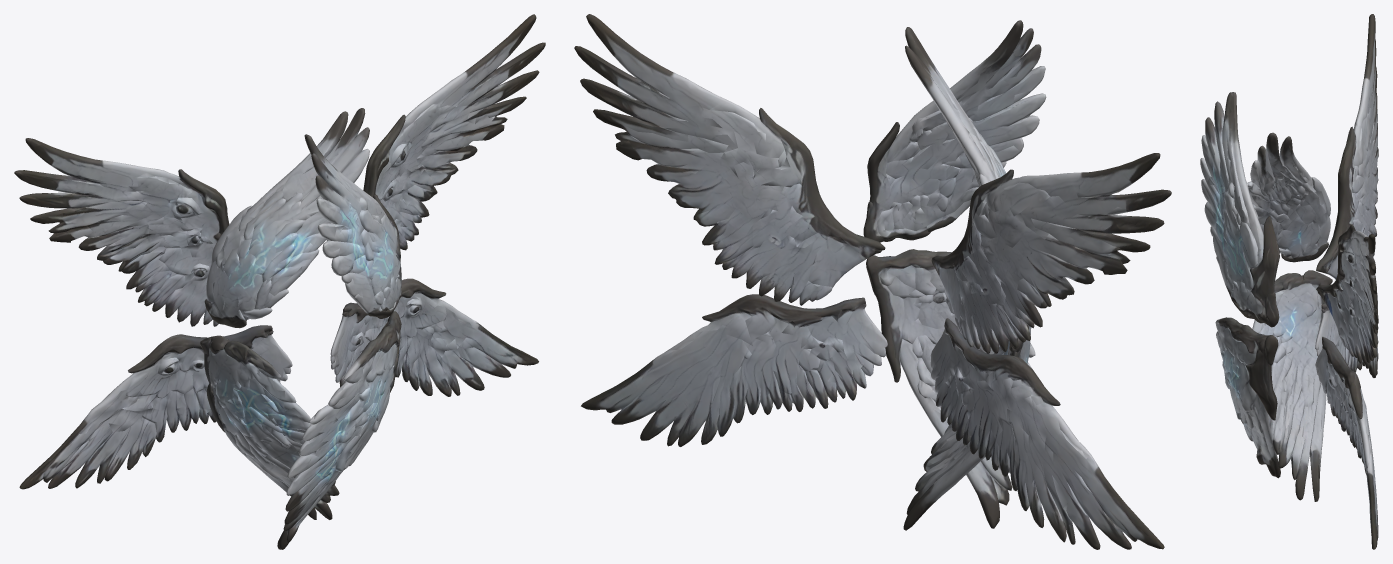
The model's file is seraph.glb.
3 views of the same model, side by side, from view 1: azimuth 30°, elevation 25°; view 2: azimuth 150°, elevation 25°; view 3: azimuth 270°, elevation 25° (orthographic). The views are drawn at different scales.
Visible parts, largest first — view 1: Mesh; view 2: Mesh; view 3: Mesh.
Part boxes in pixels (x1,y1,x2,y2): Mesh: [14, 14, 545, 549]; Mesh: [574, 14, 1171, 549]; Mesh: [1200, 14, 1378, 549].
Bounding box in the file's own units: 1.9 × 1.48 × 0.6186.
Materials: 1 (1 with a texture image).
